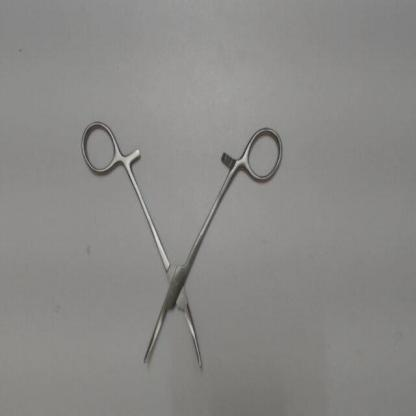Crile Artery Forceps: (65, 111, 289, 380)
